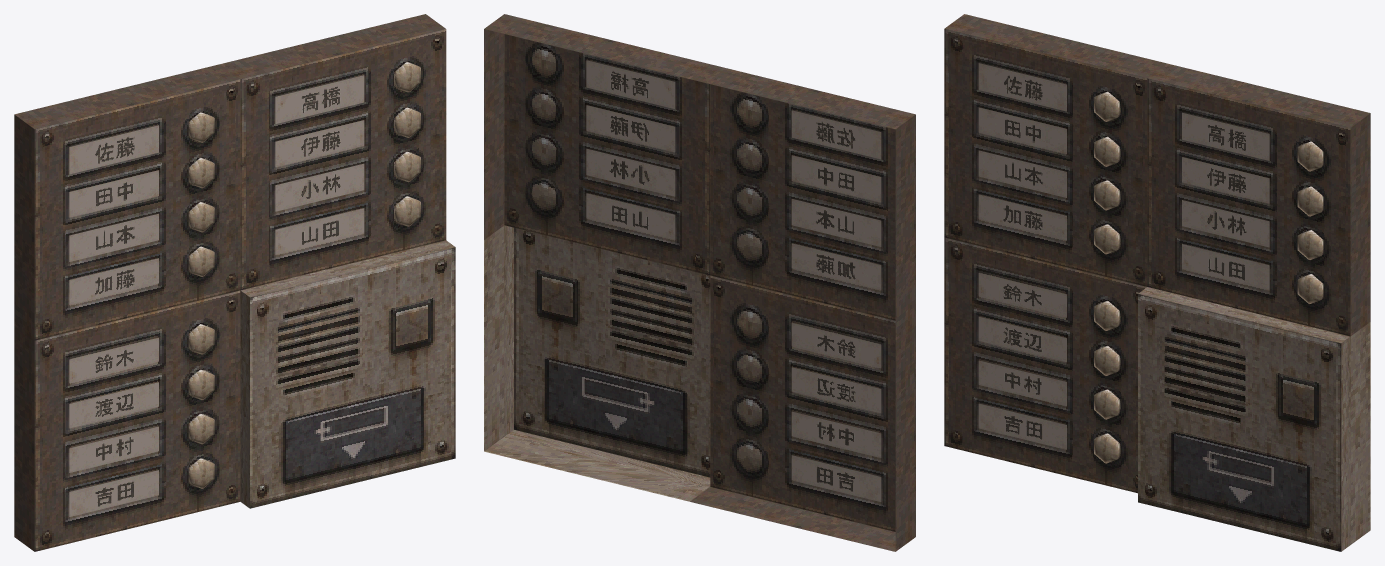
Rendered from source.glb.
3 renders of one model, left to right at view 1: azimuth 30°, elevation 25°; view 2: azimuth 150°, elevation 25°; view 3: azimuth 330°, elevation 25°, orthographic.
Visible parts, largest first — view 1: interphone_base, interphone_button.001, interphone_button.006, interphone_button.002, interphone_button.004, interphone_button.005, interphone_button, interphone_button.007, interphone_button.003, interphone_button.010, interphone_button.008, interphone_button.009 (+1 smaller); view 2: interphone_base; view 3: interphone_base, interphone_button.008, interphone_button.009, interphone_button.010, interphone_button.011, interphone_button.004, interphone_button.005, interphone_button, interphone_button.001, interphone_button.007, interphone_button.003, interphone_button.006 (+1 smaller).
Part boxes in pixels (bbox=[...]): interphone_base: bbox=[14, 14, 455, 551]; interphone_button.001: bbox=[188, 157, 214, 188]; interphone_button.006: bbox=[188, 413, 214, 444]; interphone_button.002: bbox=[188, 202, 214, 232]; interphone_button.004: bbox=[188, 324, 214, 354]; interphone_button.005: bbox=[188, 369, 214, 400]; interphone_button: bbox=[188, 112, 214, 142]; interphone_button.007: bbox=[188, 458, 214, 488]; interphone_button.003: bbox=[188, 246, 214, 277]; interphone_button.010: bbox=[395, 151, 420, 182]; interphone_button.008: bbox=[395, 62, 420, 92]; interphone_button.009: bbox=[395, 107, 420, 138]; interphone_base: bbox=[484, 14, 915, 551]; interphone_base: bbox=[944, 14, 1370, 551]; interphone_button.008: bbox=[1297, 141, 1323, 171]; interphone_button.009: bbox=[1297, 186, 1323, 216]; interphone_button.010: bbox=[1297, 230, 1323, 260]; interphone_button.011: bbox=[1297, 274, 1323, 304]; interphone_button.004: bbox=[1094, 300, 1119, 331]; interphone_button.005: bbox=[1094, 345, 1119, 376]; interphone_button: bbox=[1094, 91, 1119, 121]; interphone_button.001: bbox=[1094, 136, 1119, 166]; interphone_button.007: bbox=[1094, 433, 1119, 463]; interphone_button.003: bbox=[1094, 224, 1119, 254]; interphone_button.006: bbox=[1094, 389, 1119, 419].
Size of the model in its own units: 0.4238 by 0.4159 by 0.0534.
Materials: 26 (26 with a texture image).
